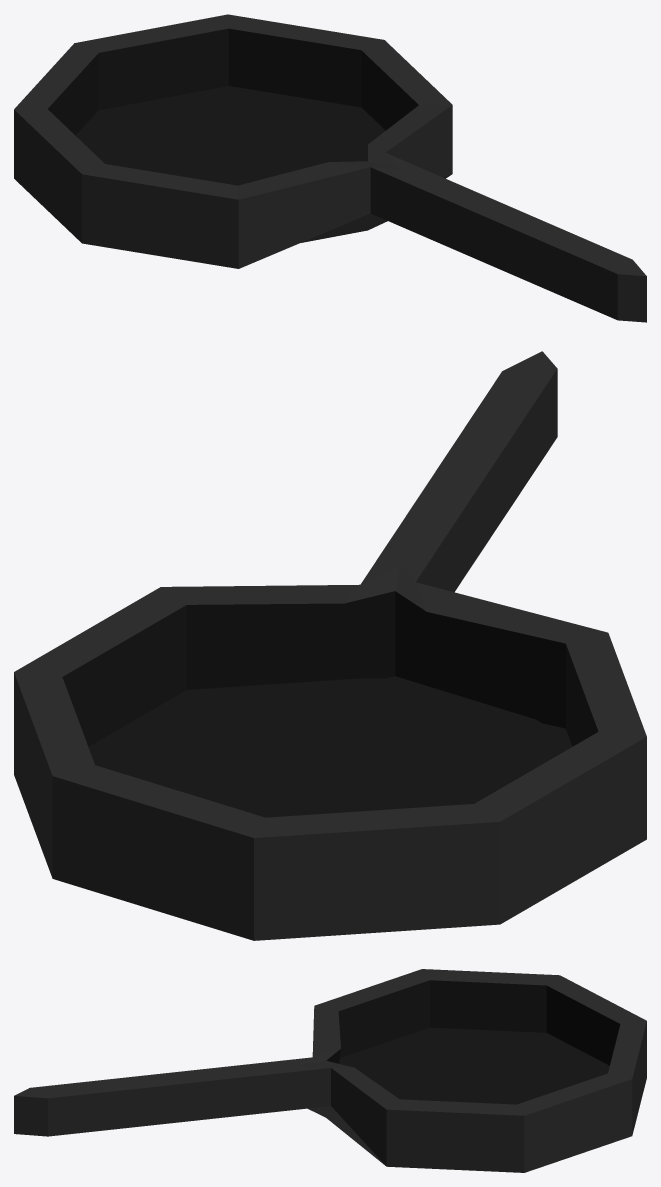
File: ChefPan.gltf
3 views of the same model, one above another, from view 1: azimuth 30°, elevation 25°; view 2: azimuth 150°, elevation 25°; view 3: azimuth 270°, elevation 25° (orthographic). The views are drawn at different scales.
Visible parts, largest first — view 1: Circle.001; view 2: Circle.001; view 3: Circle.001.
Part boxes in pixels (x1,y1,x2,y2): Circle.001: (14, 14, 646, 322); Circle.001: (14, 351, 646, 940); Circle.001: (14, 969, 646, 1172).
Size of the model in its own units: 0.2676 by 0.0496 by 0.4876.
1 material, 1 textured.
